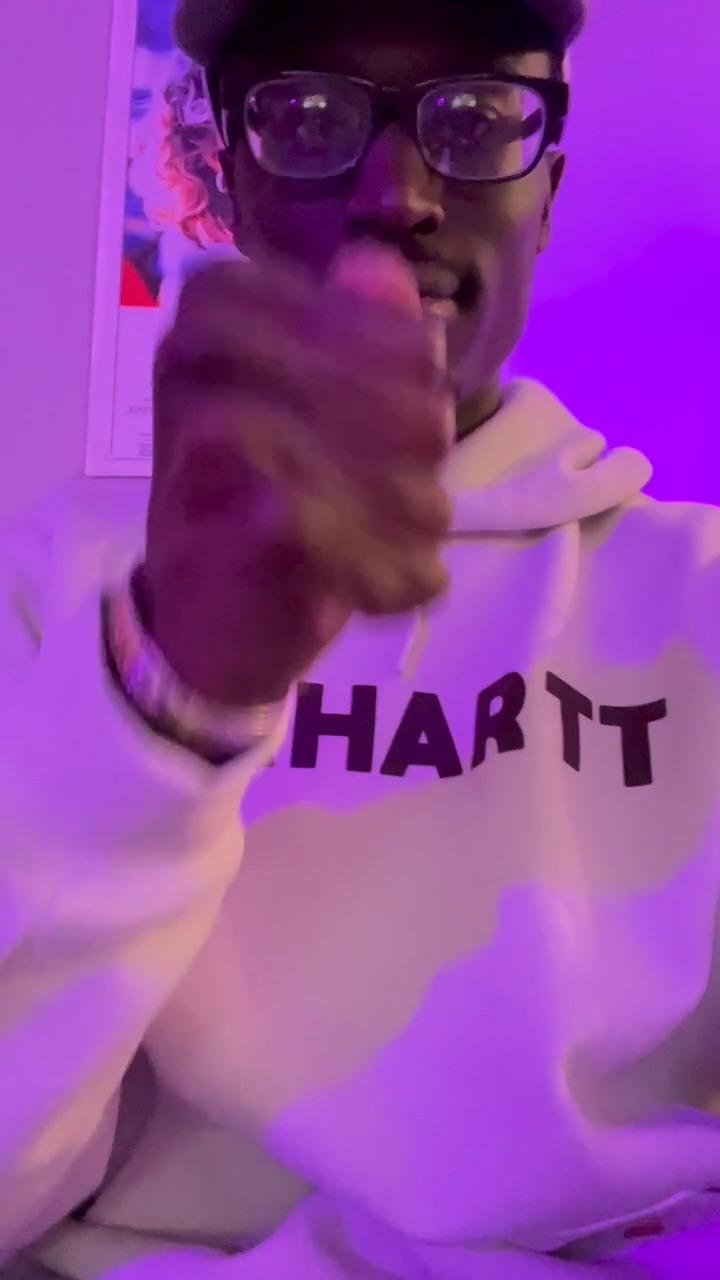Rock: (148, 238, 460, 684)
